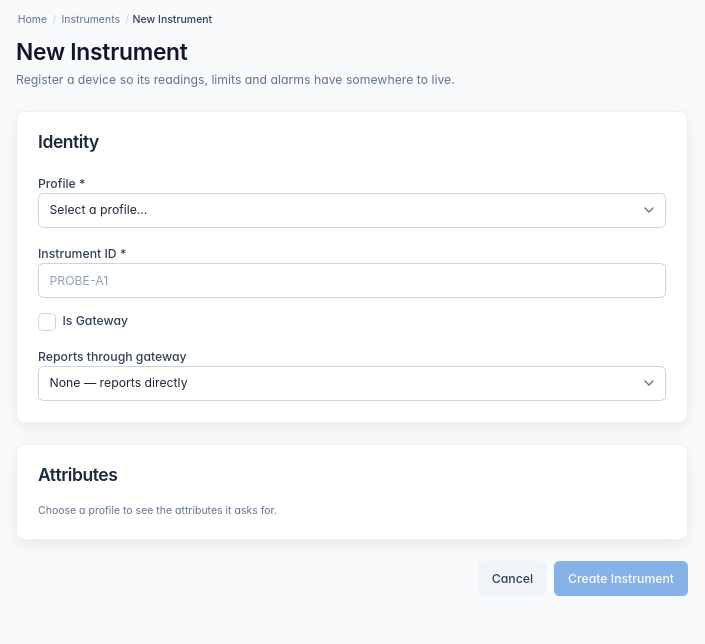
Scenario: InstrumentCreatePage — attributes come from the profile › warns explicitly when the profile list cannot be loaded
The image size is (705, 644).
Select "Cleanroom-A" in the dropdown labelled "Profile *": (352, 210) x1=38 y1=193 x2=666 y2=228
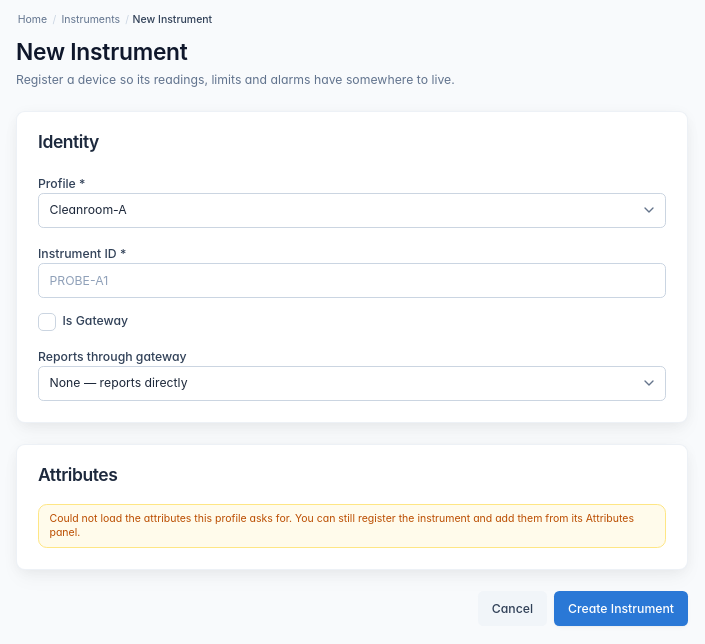
Expected: the text "Could not load the attributes" is shown, x1=50 y1=512 x2=634 y2=539
